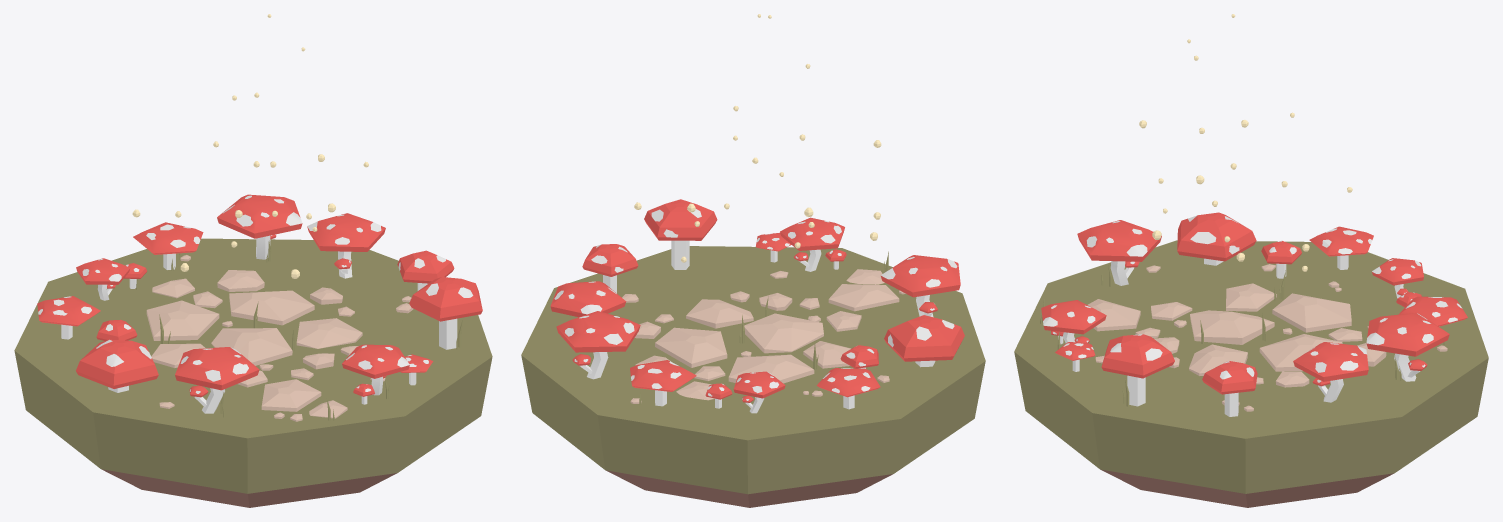
The model's file is fairy_ring.glb.
3 views of the same model, side by side, from view 1: azimuth 30°, elevation 25°; view 2: azimuth 150°, elevation 25°; view 3: azimuth 270°, elevation 25° (orthographic). The views are drawn at different scales.
Visible parts, largest first — view 1: Cylinder; view 2: Cylinder; view 3: Cylinder.
Boxes of the visible parts, bbox=[...] form: Cylinder: bbox=[14, 14, 492, 507]; Cylinder: bbox=[521, 14, 985, 507]; Cylinder: bbox=[1014, 14, 1488, 507].
Size of the model in its own units: 3.43 by 3.56 by 3.47.
